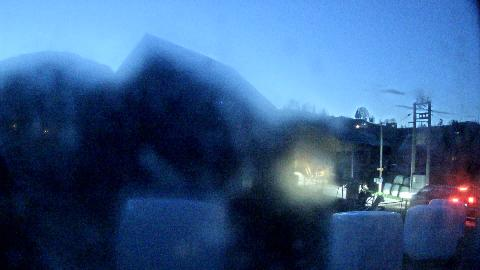car: (410, 182, 478, 220)
sheep: (364, 194, 386, 212), (358, 190, 374, 210), (352, 190, 366, 206)
